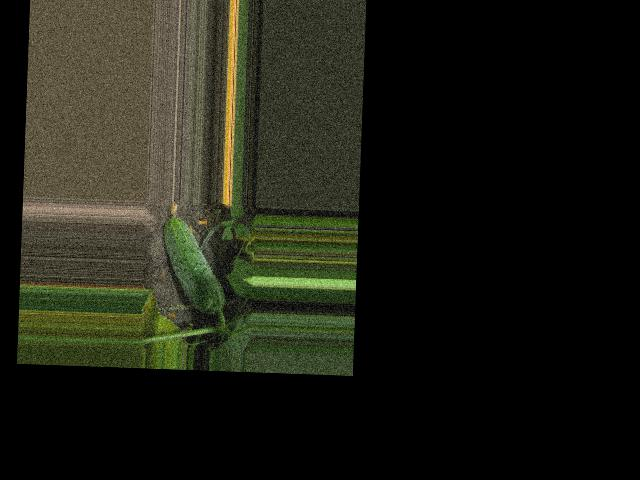cucumber: (160, 202, 228, 314)
